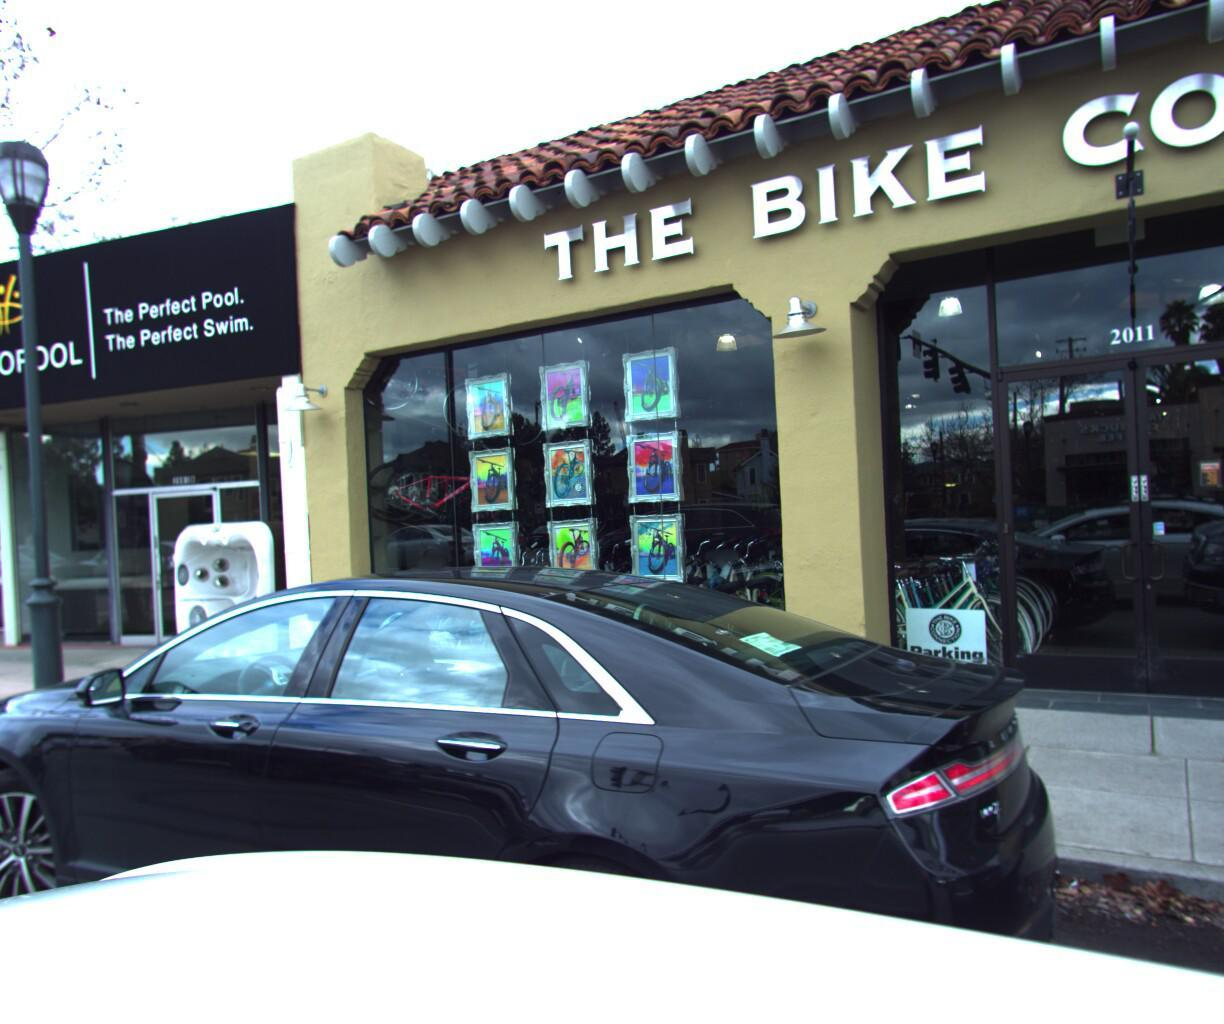car: (0, 518, 1072, 1024)
